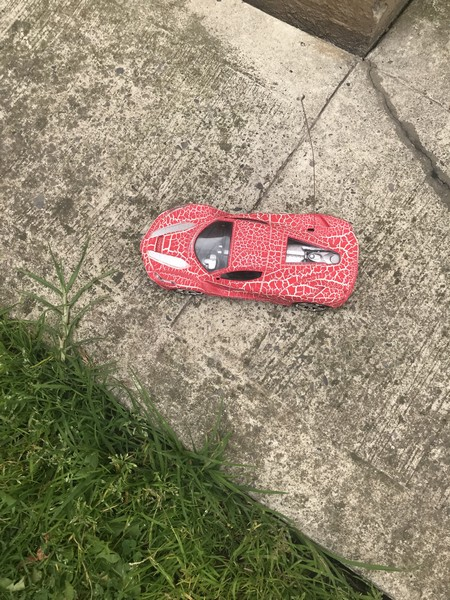RC: (138, 203, 360, 314)
